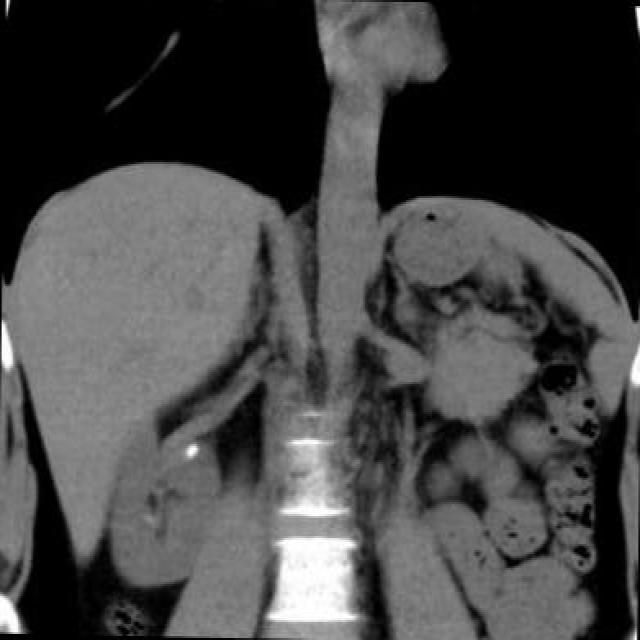Tas_Var: (180, 440, 201, 462)
